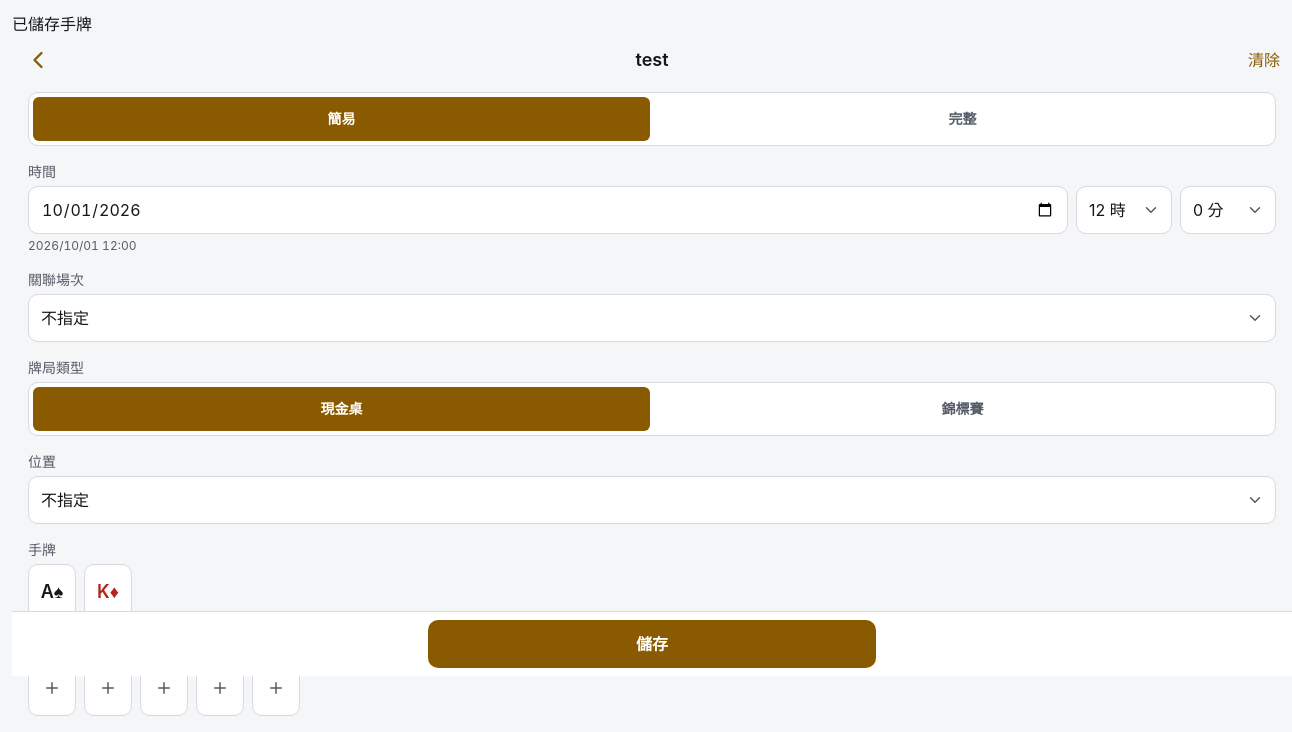
5.8 儲存失敗 › 寫入失敗：顯示「儲存失敗，請再試一次」，表單內容不清空
Click the button "儲存" at (652, 644), box x1=428 y1=620 x2=876 y2=668
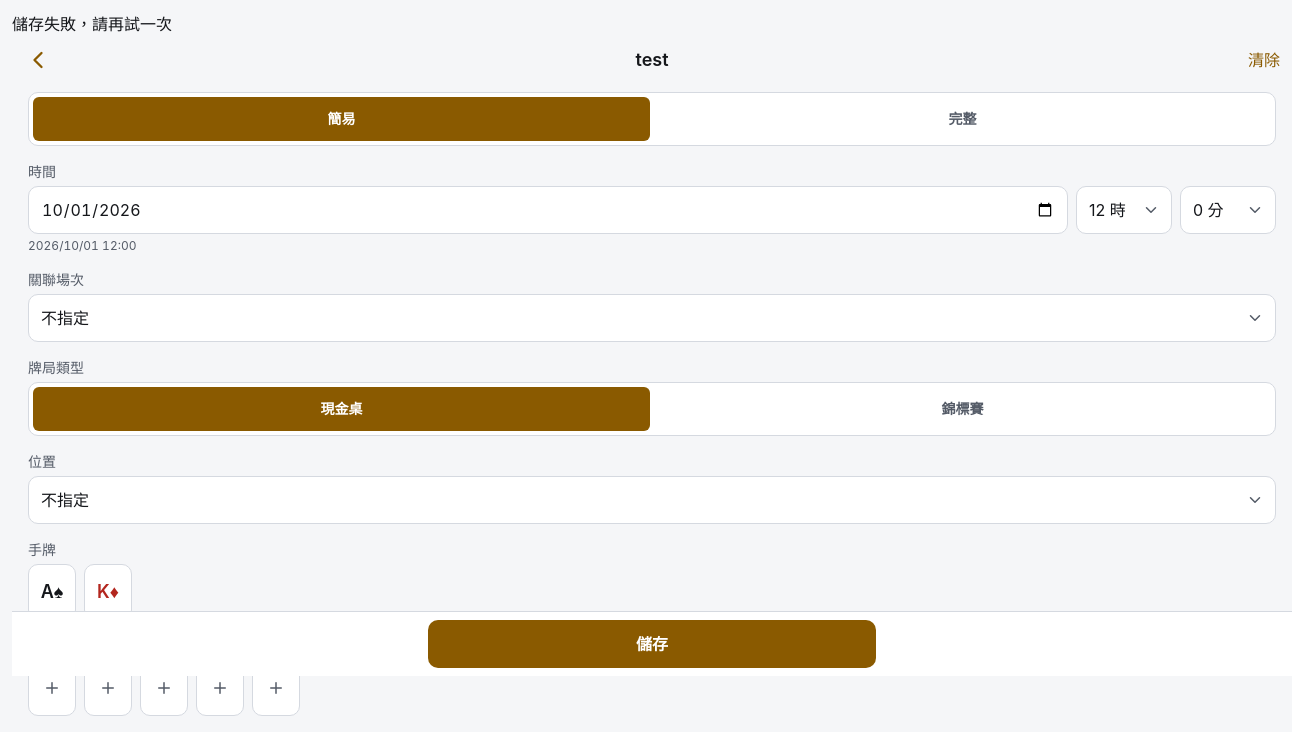
Now the text with test id "probe" reads "儲存失敗，請再試一次", box x1=12 y1=14 x2=172 y2=34
